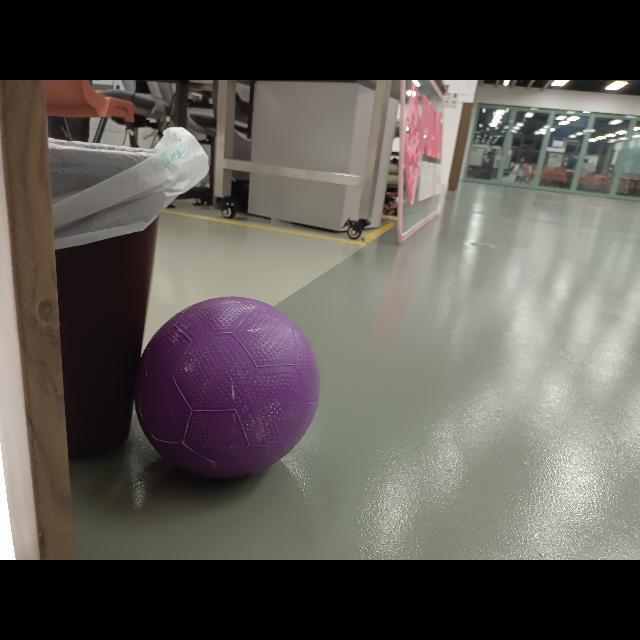P: (134, 295, 318, 477)
